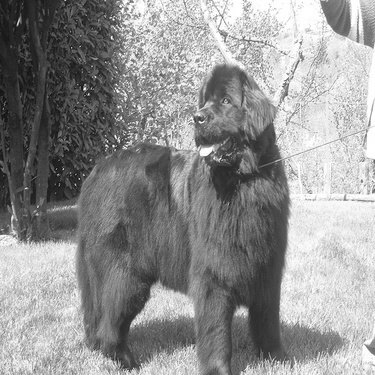dog: (61, 52, 301, 373)
